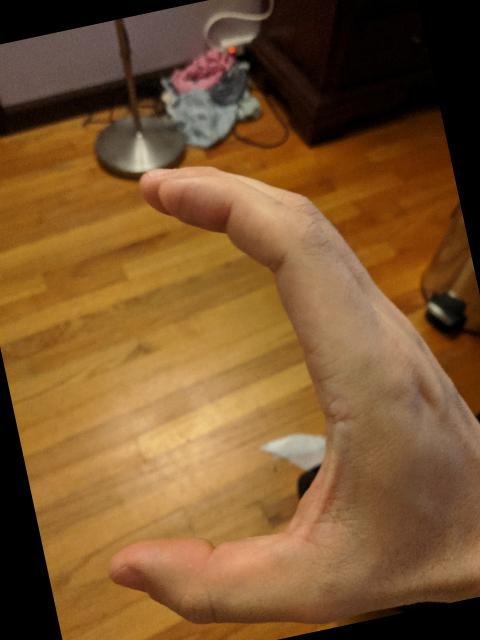C: (22, 102, 480, 640)
